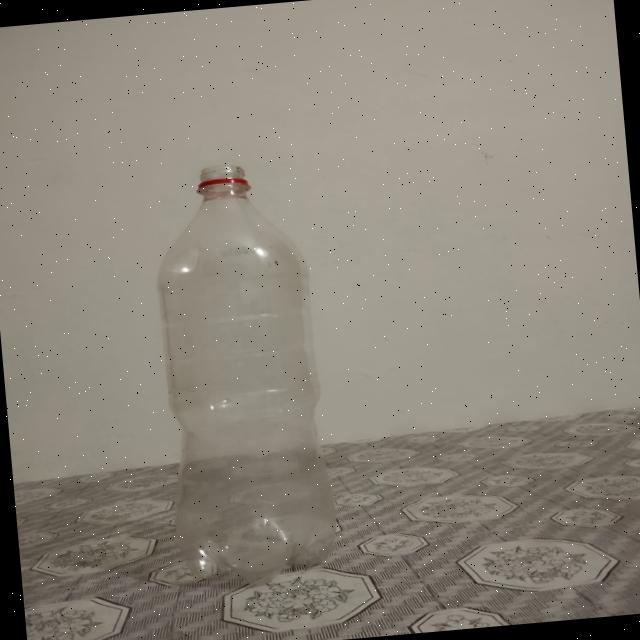bottle: (144, 158, 336, 590)
